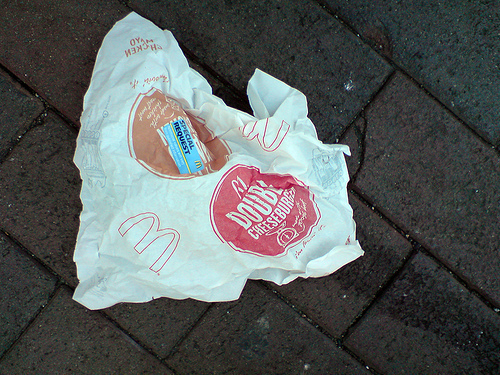litter: (70, 11, 366, 311)
